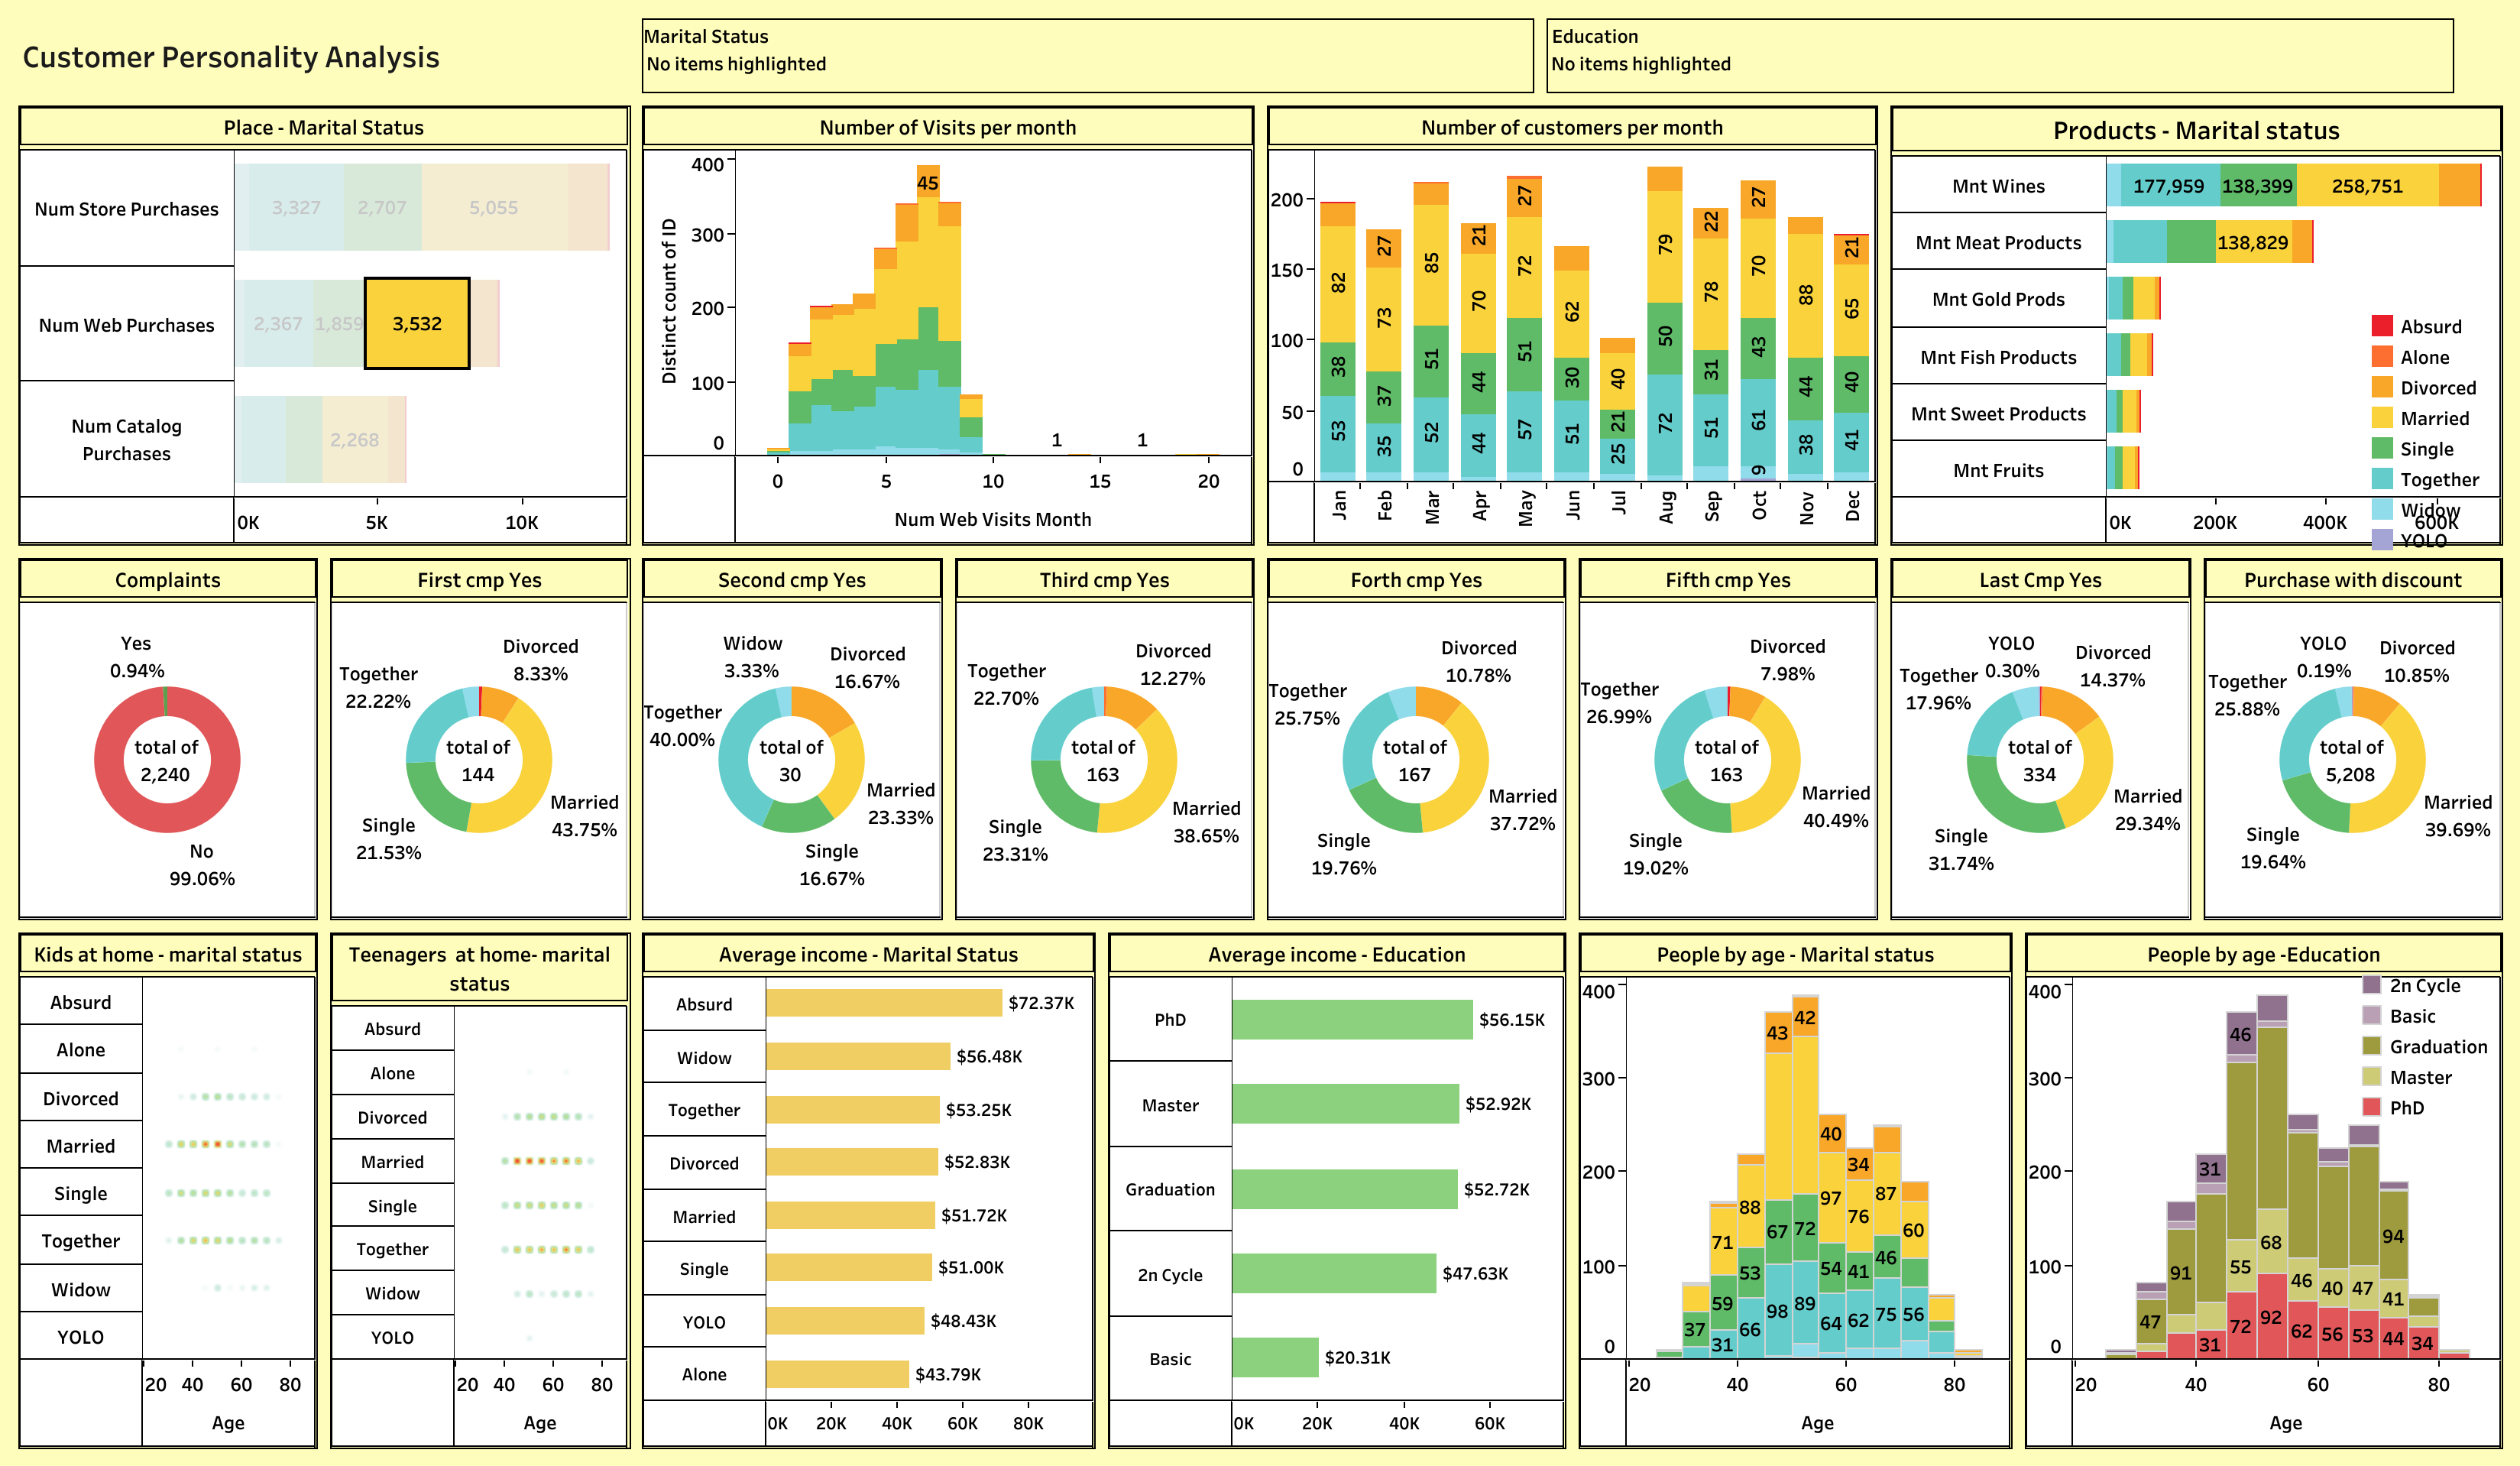

What the dashboard file says about the page in this screenshot:
{"tool":"tableau","page":{"name":"Dashboard 1","canvas":[1650,960],"ordinal":0},"visuals":[{"type":"text","box":[8,8,408,57.2]},{"type":"highlighter","title":"Place - Marital Status","param":"[federated.0324zig1rbwaes192eaww0fergur].[none:Marital_Status:nk]","box":[416,8,592,57.2]},{"type":"highlighter","title":"People by age -Education","param":"[federated.0324zig1rbwaes192eaww0fergur].[none:Education:nk]","box":[1008,8,602,57.2]},{"type":"worksheet","title":"Place - Marital Status","mark":"Automatic","box":[8,65.2,408.5,295.8]},{"type":"worksheet","title":"Number of Visits per month","mark":"Bar","rows":["ID"],"cols":["NumWebVisitsMonth"],"box":[416.5,65.2,408.5,295.8]},{"type":"worksheet","title":"Number of customers per month","mark":"Bar","rows":["ID"],"cols":["Dt_Customer"],"box":[825,65.2,408.5,295.8]},{"type":"worksheet","title":"Products - Marital status","mark":"Bar","box":[1233.5,65.2,408.5,295.8]},{"type":"legend","title":"Place - Marital Status","param":"[federated.0324zig1rbwaes192eaww0fergur].[none:Marital_Status:nk]","box":[1549,203,87,162]},{"type":"worksheet","title":"Complaints","mark":"Pie","rows":["Calculation_5311081033627619331","Calculation_5311081033627619331"],"box":[8,361,204.2,245]},{"type":"worksheet","title":"First cmp Yes","mark":"Pie","rows":["Calculation_5311081033627619331","Calculation_5311081033627619331"],"box":[212.2,361,204.3,245]},{"type":"worksheet","title":"Second cmp Yes","mark":"Pie","rows":["Calculation_5311081033627619331","Calculation_5311081033627619331"],"box":[416.5,361,204.3,245]},{"type":"worksheet","title":"Third cmp Yes","mark":"Pie","rows":["Calculation_5311081033627619331","Calculation_5311081033627619331"],"box":[620.7,361,204.3,245]},{"type":"worksheet","title":"Forth cmp Yes","mark":"Pie","rows":["Calculation_5311081033627619331","Calculation_5311081033627619331"],"box":[825,361,204.2,245]},{"type":"worksheet","title":"Fifth cmp Yes ","mark":"Pie","rows":["Calculation_5311081033627619331","Calculation_5311081033627619331"],"box":[1029.2,361,204.3,245]},{"type":"worksheet","title":"Response","mark":"Pie","rows":["Calculation_5311081033627619331","Calculation_5311081033627619331"],"box":[1233.5,361,204.3,245]},{"type":"worksheet","title":"Purchase with discount","mark":"Pie","rows":["Calculation_5311081033627619331","Calculation_5311081033627619331"],"box":[1437.7,361,204.3,245]},{"type":"worksheet","title":"Kids at home - marital status","mark":"Heatmap","rows":["Marital_Status"],"cols":["Age (bin)"],"box":[8,606,204.2,346]},{"type":"worksheet","title":"Teenagers  at home- marital status","mark":"Heatmap","rows":["Marital_Status"],"cols":["Age (bin)"],"box":[212.2,606,204.3,346]},{"type":"worksheet","title":"Average income - Marital Status","mark":"Bar","rows":["Marital_Status"],"cols":["Income"],"box":[416.5,606,304.5,346]},{"type":"worksheet","title":"Average income - Education","mark":"Bar","rows":["Education"],"cols":["Income"],"box":[721,606,308,346]},{"type":"worksheet","title":"People by age - Marital status","mark":"Automatic","rows":["Calculation_5311081033631096836"],"cols":["Age (bin)"],"box":[1029,606,292,346]},{"type":"worksheet","title":"People by age -Education","mark":"Automatic","rows":["Calculation_5311081033631096836"],"cols":["Age (bin)"],"box":[1321,606,321,346]},{"type":"legend","title":"People by age -Education","param":"[federated.0324zig1rbwaes192eaww0fergur].[none:Education:nk]","box":[1542,634,94,100]}]}

Visuals, with their boxes in screenshot pixels (x1, y1, x2, y2), scaled from the page's 1650x960 canvas onto the 2520x1466 screenshot:
text: box=[12, 12, 635, 99]
"Place - Marital Status" highlighter: box=[635, 12, 1540, 99]
"People by age -Education" highlighter: box=[1540, 12, 2459, 99]
"Place - Marital Status" worksheet: box=[12, 99, 636, 551]
"Number of Visits per month" worksheet (Bar marks): box=[636, 99, 1260, 551]
"Number of customers per month" worksheet (Bar marks): box=[1260, 99, 1884, 551]
"Products - Marital status" worksheet (Bar marks): box=[1884, 99, 2508, 551]
"Place - Marital Status" legend: box=[2366, 310, 2499, 557]
"Complaints" worksheet (Pie marks): box=[12, 551, 324, 926]
"First cmp Yes" worksheet (Pie marks): box=[324, 551, 636, 926]
"Second cmp Yes" worksheet (Pie marks): box=[636, 551, 948, 926]
"Third cmp Yes" worksheet (Pie marks): box=[948, 551, 1260, 926]
"Forth cmp Yes" worksheet (Pie marks): box=[1260, 551, 1572, 926]
"Fifth cmp Yes " worksheet (Pie marks): box=[1572, 551, 1884, 926]
"Response" worksheet (Pie marks): box=[1884, 551, 2196, 926]
"Purchase with discount" worksheet (Pie marks): box=[2196, 551, 2508, 926]
"Kids at home - marital status" worksheet (Heatmap marks): box=[12, 926, 324, 1454]
"Teenagers  at home- marital status" worksheet (Heatmap marks): box=[324, 926, 636, 1454]
"Average income - Marital Status" worksheet (Bar marks): box=[636, 926, 1101, 1454]
"Average income - Education" worksheet (Bar marks): box=[1101, 926, 1572, 1454]
"People by age - Marital status" worksheet: box=[1572, 926, 2017, 1454]
"People by age -Education" worksheet: box=[2017, 926, 2508, 1454]
"People by age -Education" legend: box=[2355, 968, 2499, 1121]
